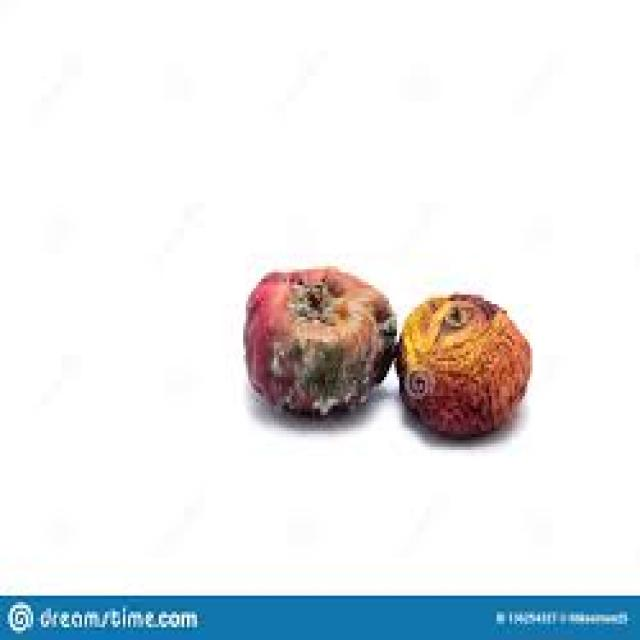food_waste: (246, 266, 530, 434)
